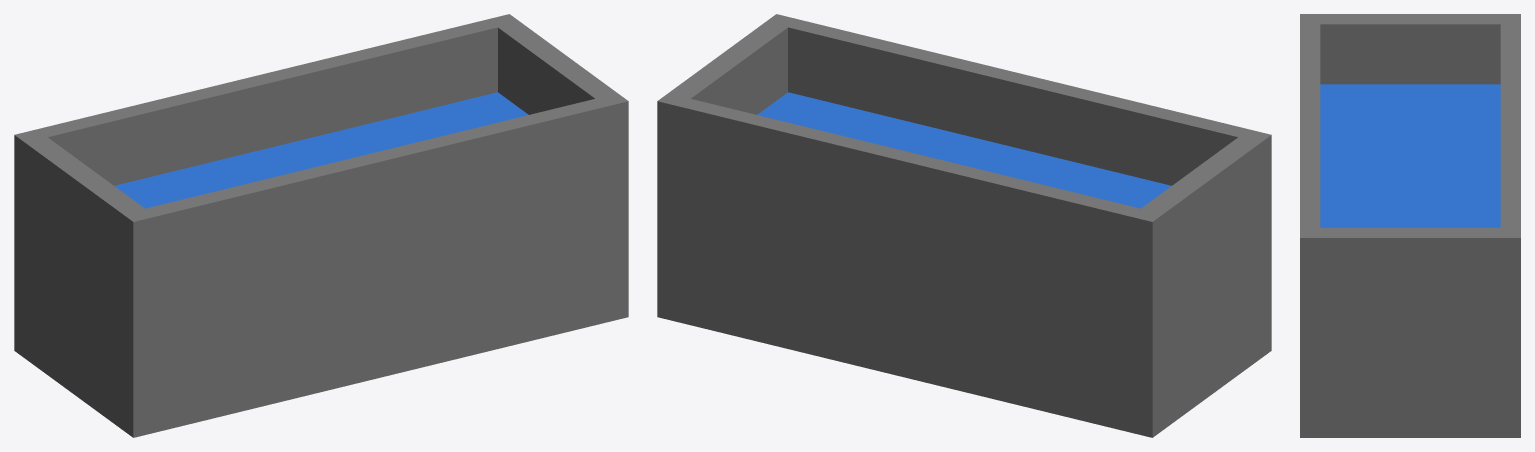
The model's file is Estanque.fbx.
3 renders of one model, left to right at view 1: azimuth 30°, elevation 25°; view 2: azimuth 150°, elevation 25°; view 3: azimuth 270°, elevation 25°, orthographic. The views are drawn at different scales.
Parts seen in each view (by area): view 1: Estanque; view 2: Estanque; view 3: Estanque.
Part boxes in pixels (x1,y1,x2,y2): Estanque: (14,14,628,437); Estanque: (657,14,1271,437); Estanque: (1300,14,1520,437).
Bounding box in the file's own units: 120 × 50 × 50.
